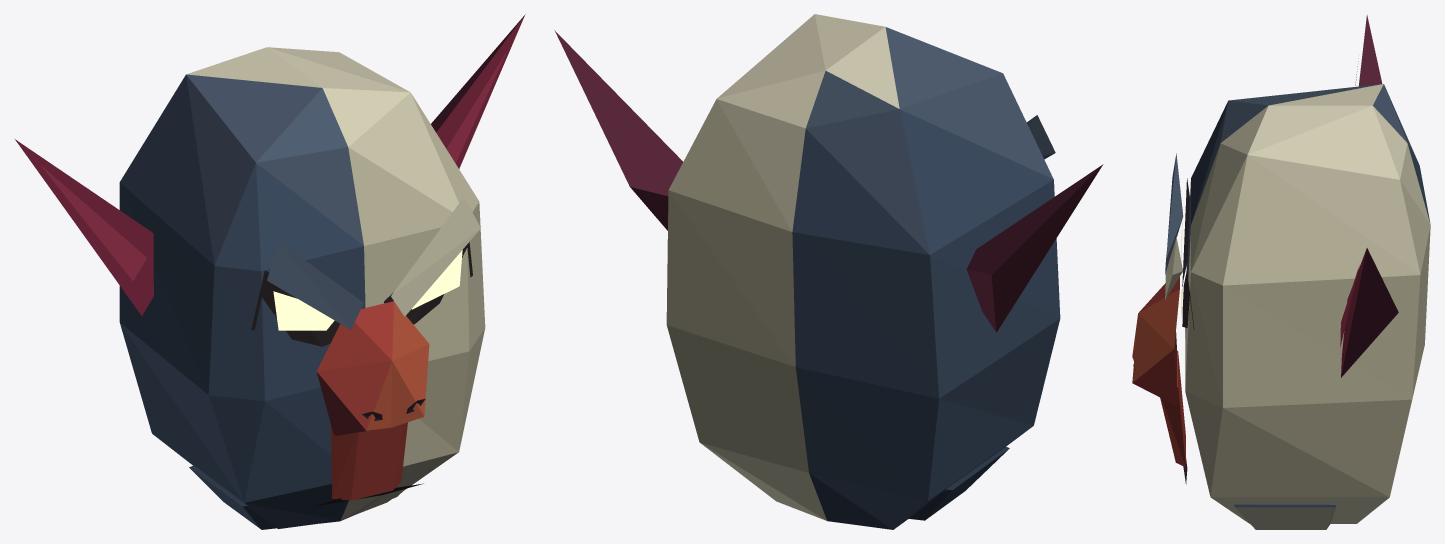
The model's file is head.glb.
The picture shows the model from 3 angles, left to right: view 1: azimuth 30°, elevation 25°; view 2: azimuth 150°, elevation 25°; view 3: azimuth 270°, elevation 25°; orthographic projection. The views are drawn at different scales.
Parts seen in each view (by area): view 1: Split-color faceted skull, Angular red muzzle bridge, Pointed ear blue, Long red philtrum, Sculpted brow blue, Sculpted brow cream, Pointed ear cream, Ear inset blue, Split lower jaw, Angled ivory eye blue, Deep eye socket blue, Ear inset cream (+2 smaller); view 2: Split-color faceted skull, Pointed ear blue, Pointed ear cream, Split lower jaw; view 3: Split-color faceted skull, Angular red muzzle bridge, Pointed ear cream, Split lower jaw, Long red philtrum, Sculpted brow blue, Pointed ear blue, Sculpted brow cream, Deep eye socket blue, Deep eye socket cream.
Part boxes in pixels (x1,y1,x2,y2): Split-color faceted skull: [119, 47, 485, 528]; Angular red muzzle bridge: [316, 301, 429, 435]; Pointed ear blue: [15, 139, 153, 315]; Long red philtrum: [331, 422, 407, 500]; Sculpted brow blue: [267, 242, 363, 329]; Sculpted brow cream: [391, 197, 480, 316]; Pointed ear cream: [431, 14, 525, 168]; Ear inset blue: [40, 164, 146, 281]; Split lower jaw: [189, 465, 401, 529]; Angled ivory eye blue: [273, 291, 334, 330]; Deep eye socket blue: [251, 270, 339, 346]; Ear inset cream: [446, 50, 507, 163]; Split-color faceted skull: [666, 14, 1060, 529]; Pointed ear blue: [966, 164, 1103, 332]; Pointed ear cream: [554, 30, 682, 230]; Split lower jaw: [909, 446, 1009, 520]; Split-color faceted skull: [1185, 84, 1430, 523]; Angular red muzzle bridge: [1132, 277, 1179, 405]; Pointed ear cream: [1341, 248, 1398, 377]; Split lower jaw: [1234, 504, 1336, 529]; Long red philtrum: [1160, 350, 1185, 467]; Sculpted brow blue: [1165, 153, 1183, 274]; Pointed ear blue: [1358, 15, 1382, 86]; Sculpted brow cream: [1165, 237, 1182, 299]; Deep eye socket blue: [1182, 178, 1189, 286]; Deep eye socket cream: [1182, 270, 1194, 329].
Size of the model in its own units: 0.954 by 0.75 by 0.5154.
